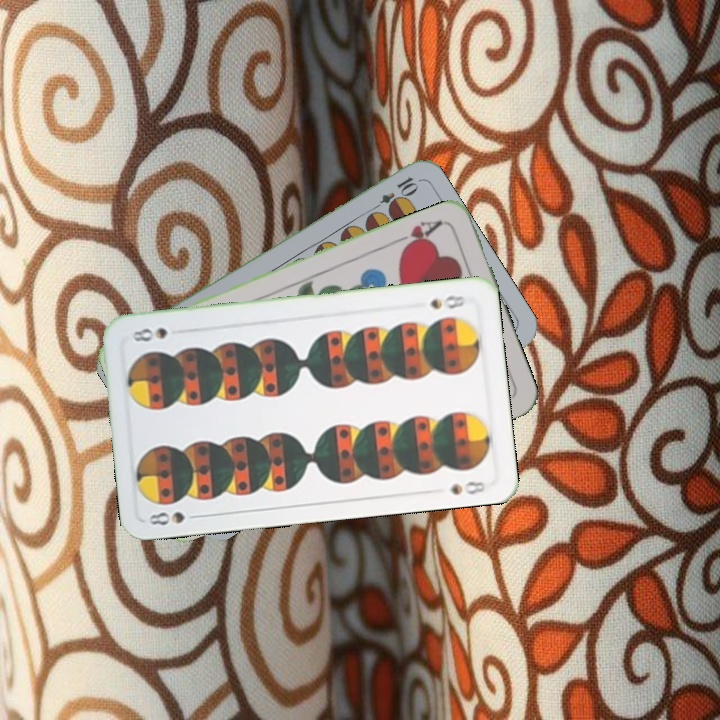E10: (366, 172, 420, 216)
HA: (390, 216, 445, 253)
S8: (145, 507, 204, 528), (425, 291, 468, 312)
